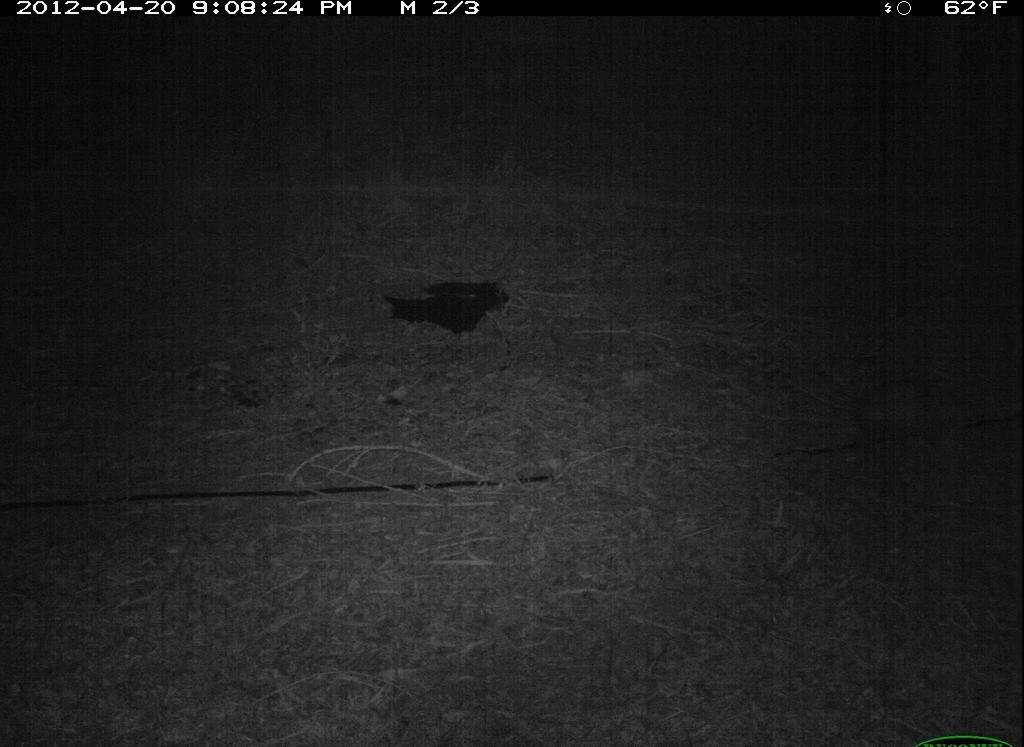opossum: (840, 363, 987, 466)
